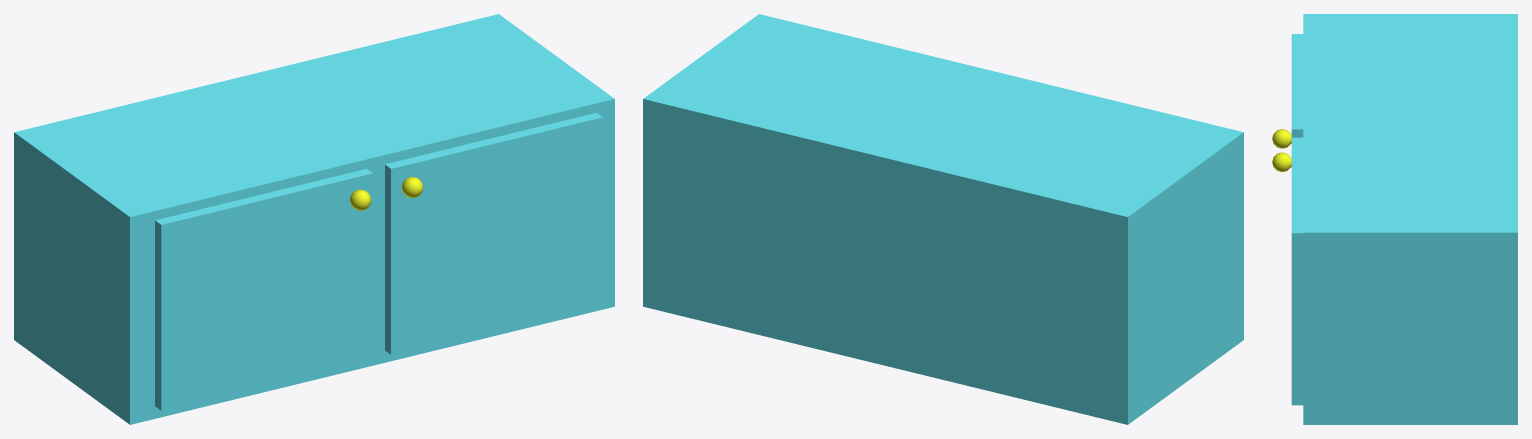
Rendered from wardrobe.fbx.
3 renders of one model, left to right at view 1: azimuth 30°, elevation 25°; view 2: azimuth 150°, elevation 25°; view 3: azimuth 270°, elevation 25°, orthographic. The views are drawn at different scales.
Parts seen in each view (by area): view 1: Box021; view 2: Box021; view 3: Box021.
Boxes of the visible parts, x1=… form: Box021: x1=14, y1=14, x2=614, y2=424; Box021: x1=643, y1=14, x2=1243, y2=424; Box021: x1=1272, y1=14, x2=1517, y2=424.
Size of the model in its own units: 161 by 65.97 by 76.42.
